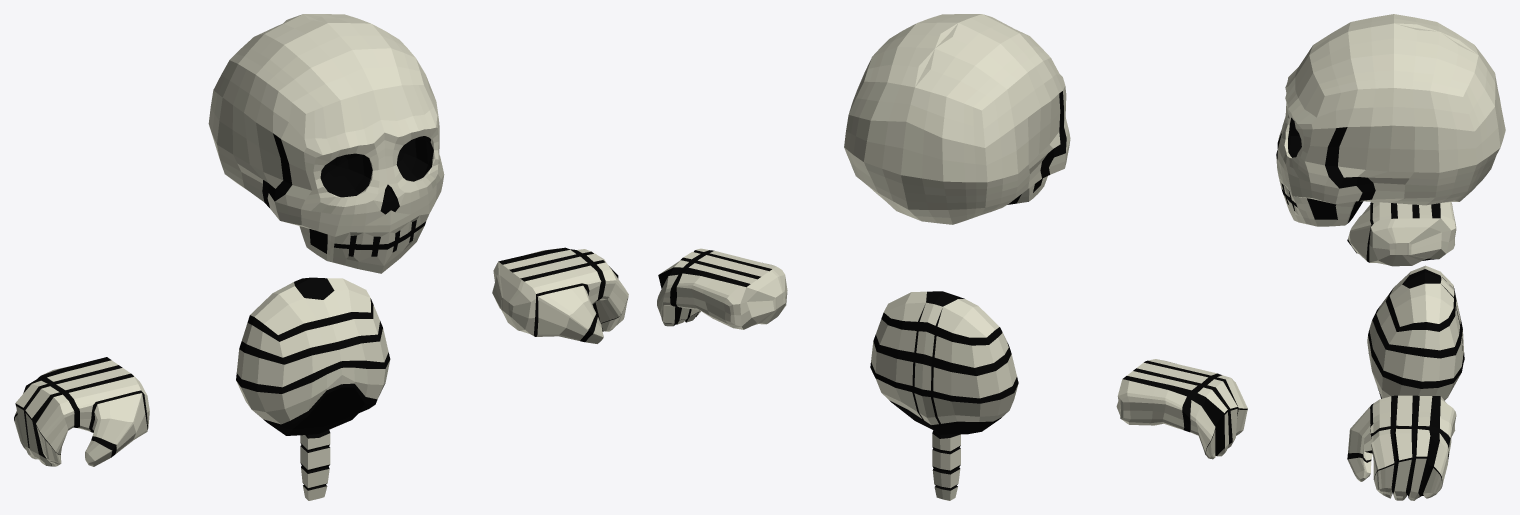
The model's file is skeleton.fbx.
3 views of the same model, side by side, from view 1: azimuth 30°, elevation 25°; view 2: azimuth 150°, elevation 25°; view 3: azimuth 270°, elevation 25° (orthographic). The views are drawn at different scales.
Visible parts, largest first — view 1: skull, skeleton_chest, right_hand, left_hand; view 2: skull, skeleton_chest, right_hand, left_hand; view 3: skull, skeleton_chest, left_hand, right_hand.
Boxes of the visible parts, left/top/right/bottom form: skull: left=208, top=14, right=444, bottom=273; skeleton_chest: left=236, top=277, right=390, bottom=500; right_hand: left=14, top=357, right=149, bottom=466; left_hand: left=492, top=247, right=628, bottom=343; skull: left=844, top=14, right=1070, bottom=224; skeleton_chest: left=870, top=291, right=1018, bottom=500; right_hand: left=1116, top=359, right=1247, bottom=459; left_hand: left=657, top=248, right=787, bottom=329; skull: left=1276, top=14, right=1505, bottom=226; skeleton_chest: left=1367, top=265, right=1464, bottom=400; left_hand: left=1347, top=395, right=1456, bottom=500; right_hand: left=1347, top=202, right=1456, bottom=266.
Bounding box in the file's own units: 226 × 178 × 82.03.
